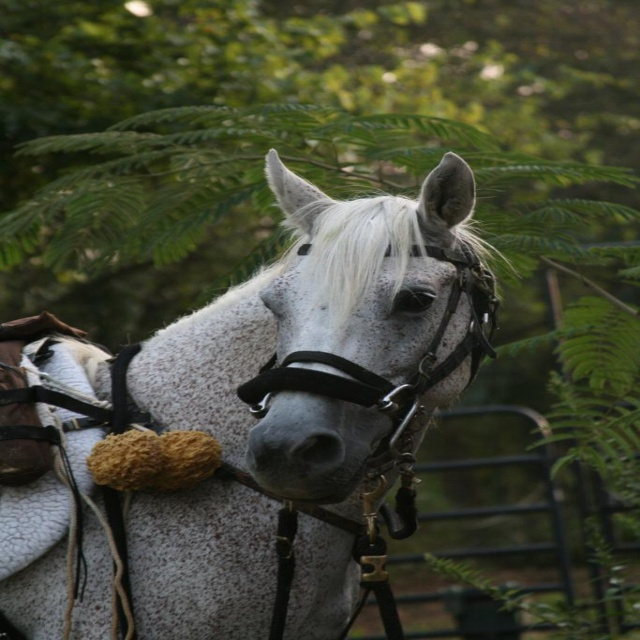Horse: (0, 147, 514, 639)
